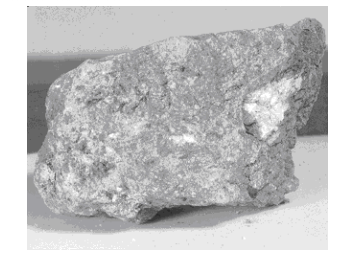Breccia: (35, 52, 310, 201), (88, 54, 278, 197)
